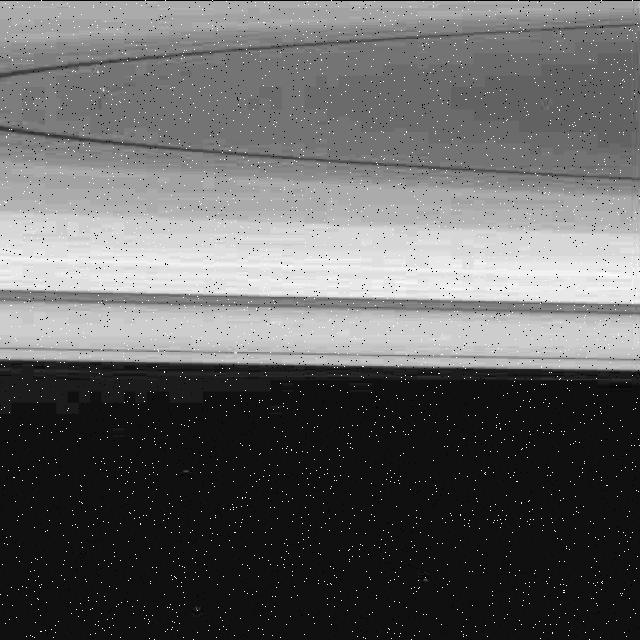Saturn: (0, 0, 640, 375)
